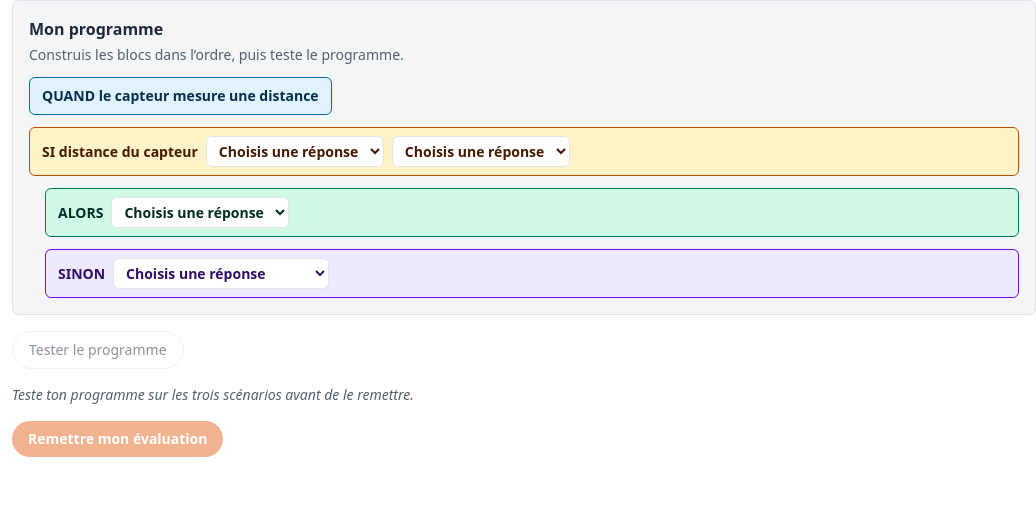
Scenario: SommativeBlockProgram (docs/SPEC.md § 23, § 30) › exige et exécute la branche « SINON » lorsqu’elle est demandée
This screenshot has width=1036, height=524.
Check: the heading "Mon programme" is shown, box [29,18,163,40]
Check: the text "SINON" is shown, box [58,264,105,284]
Select "inférieure à" in the dropdown named "Comparateur" at [295, 152], box [206,136,384,167]
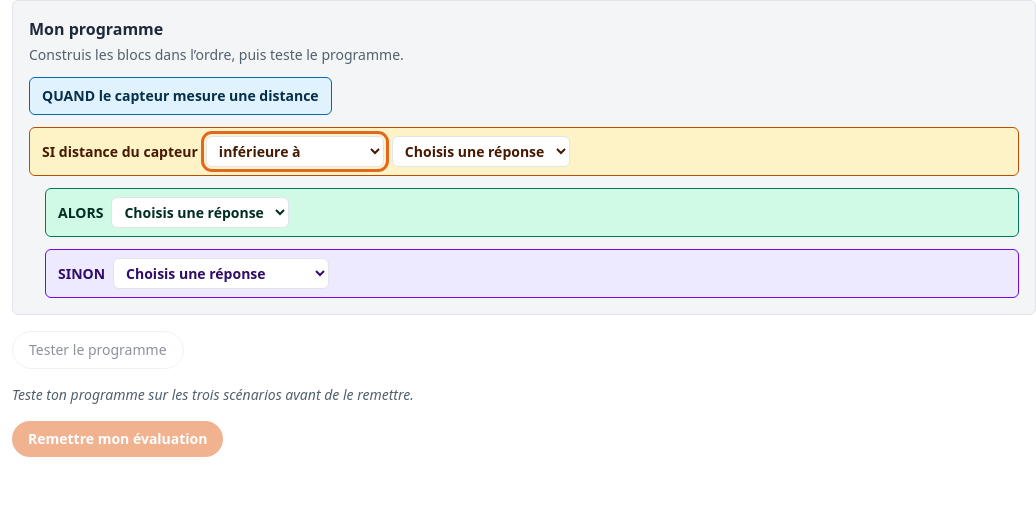
Select "2 m" in the dropdown named "Seuil" at [481, 152], box [392,136,570,167]
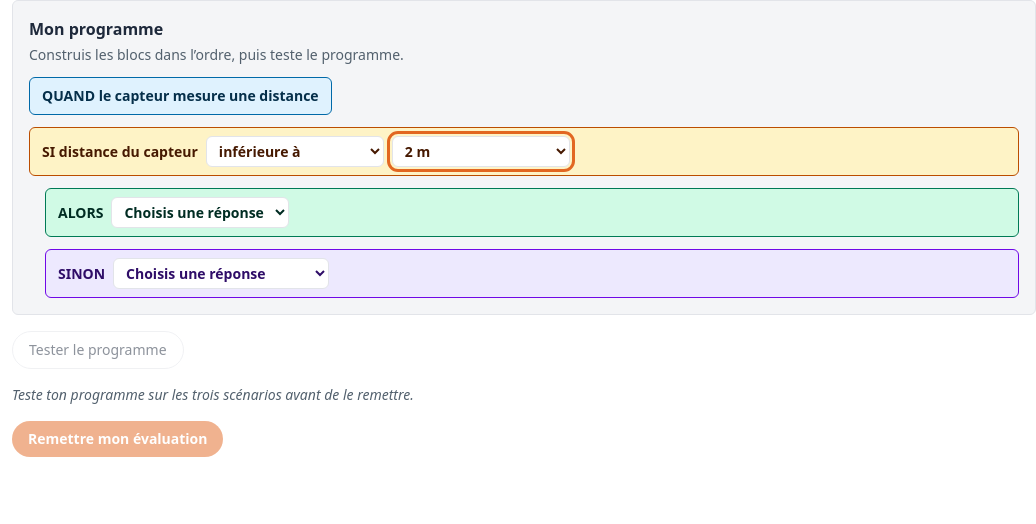
Select "Arrêter l’engin" in the dropdown named "Action si la condition est vraie" at [200, 212], box [111,197,289,228]
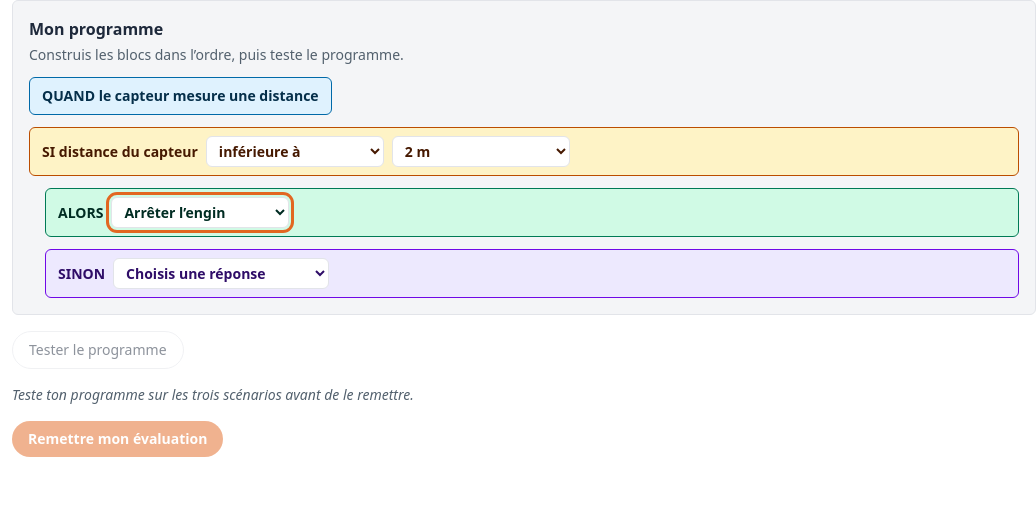
Check: the button "Tester le programme" is disabled, box [12,331,184,369]
Select "Autoriser le déplacement" in the dropdown named "Action sinon" at [221, 274], box [113,258,329,289]
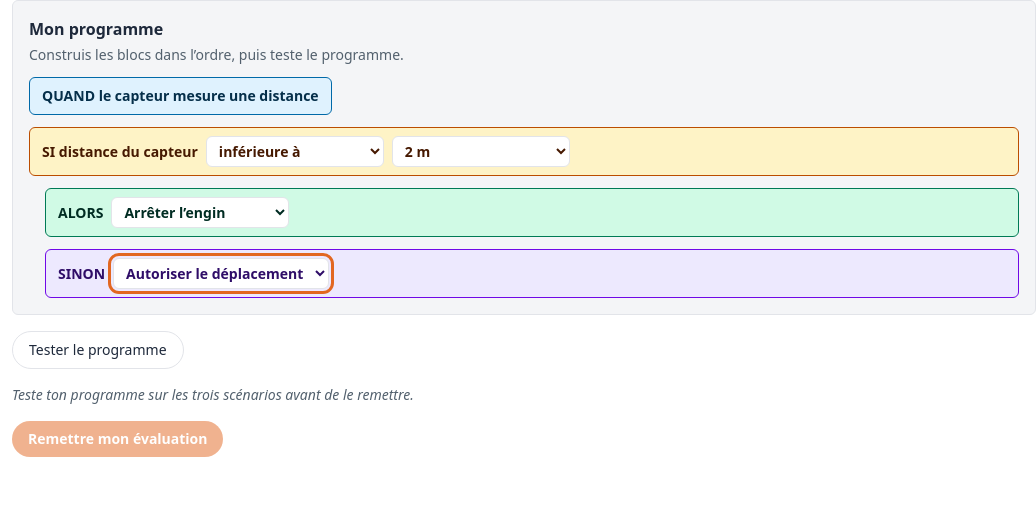
Click the button "Tester le programme".
click(98, 350)  # box [12,331,184,369]
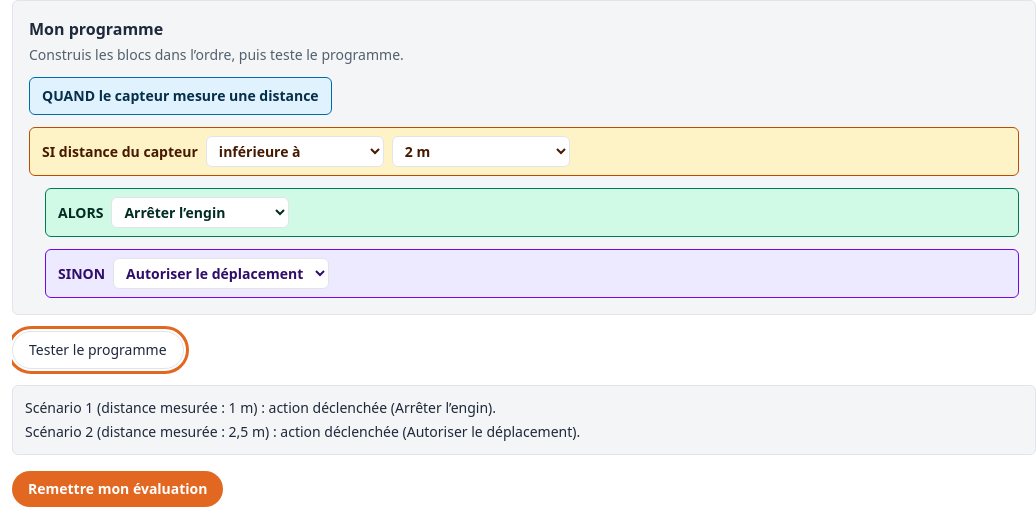
Check: the list item "Scénario 2 (distance mesurée : 2,5 m) : action déclenchée (Autoriser le déplacement)." is shown, box [25,422,580,441]
